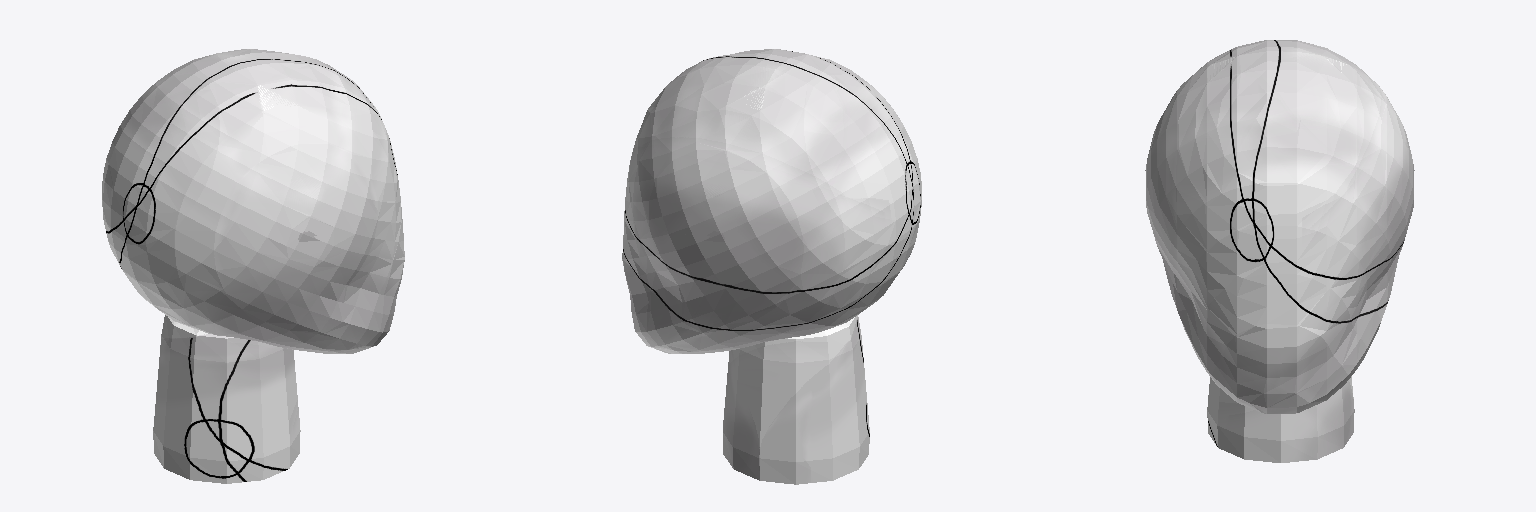
3 renders of one model, left to right at view 1: azimuth 30°, elevation 25°; view 2: azimuth 150°, elevation 25°; view 3: azimuth 270°, elevation 25°, orthographic.
Visible parts, largest first — view 1: Head_Cylinder.002; view 2: Head_Cylinder.002; view 3: Head_Cylinder.002.
Part boxes in pixels (left/top/right/bottom): Head_Cylinder.002: left=102, top=49, right=404, bottom=483; Head_Cylinder.002: left=622, top=49, right=921, bottom=484; Head_Cylinder.002: left=1145, top=40, right=1414, bottom=462.
Size of the model in its own units: 0.3384 by 0.4654 by 0.288.
Materials: 1 (1 with a texture image).